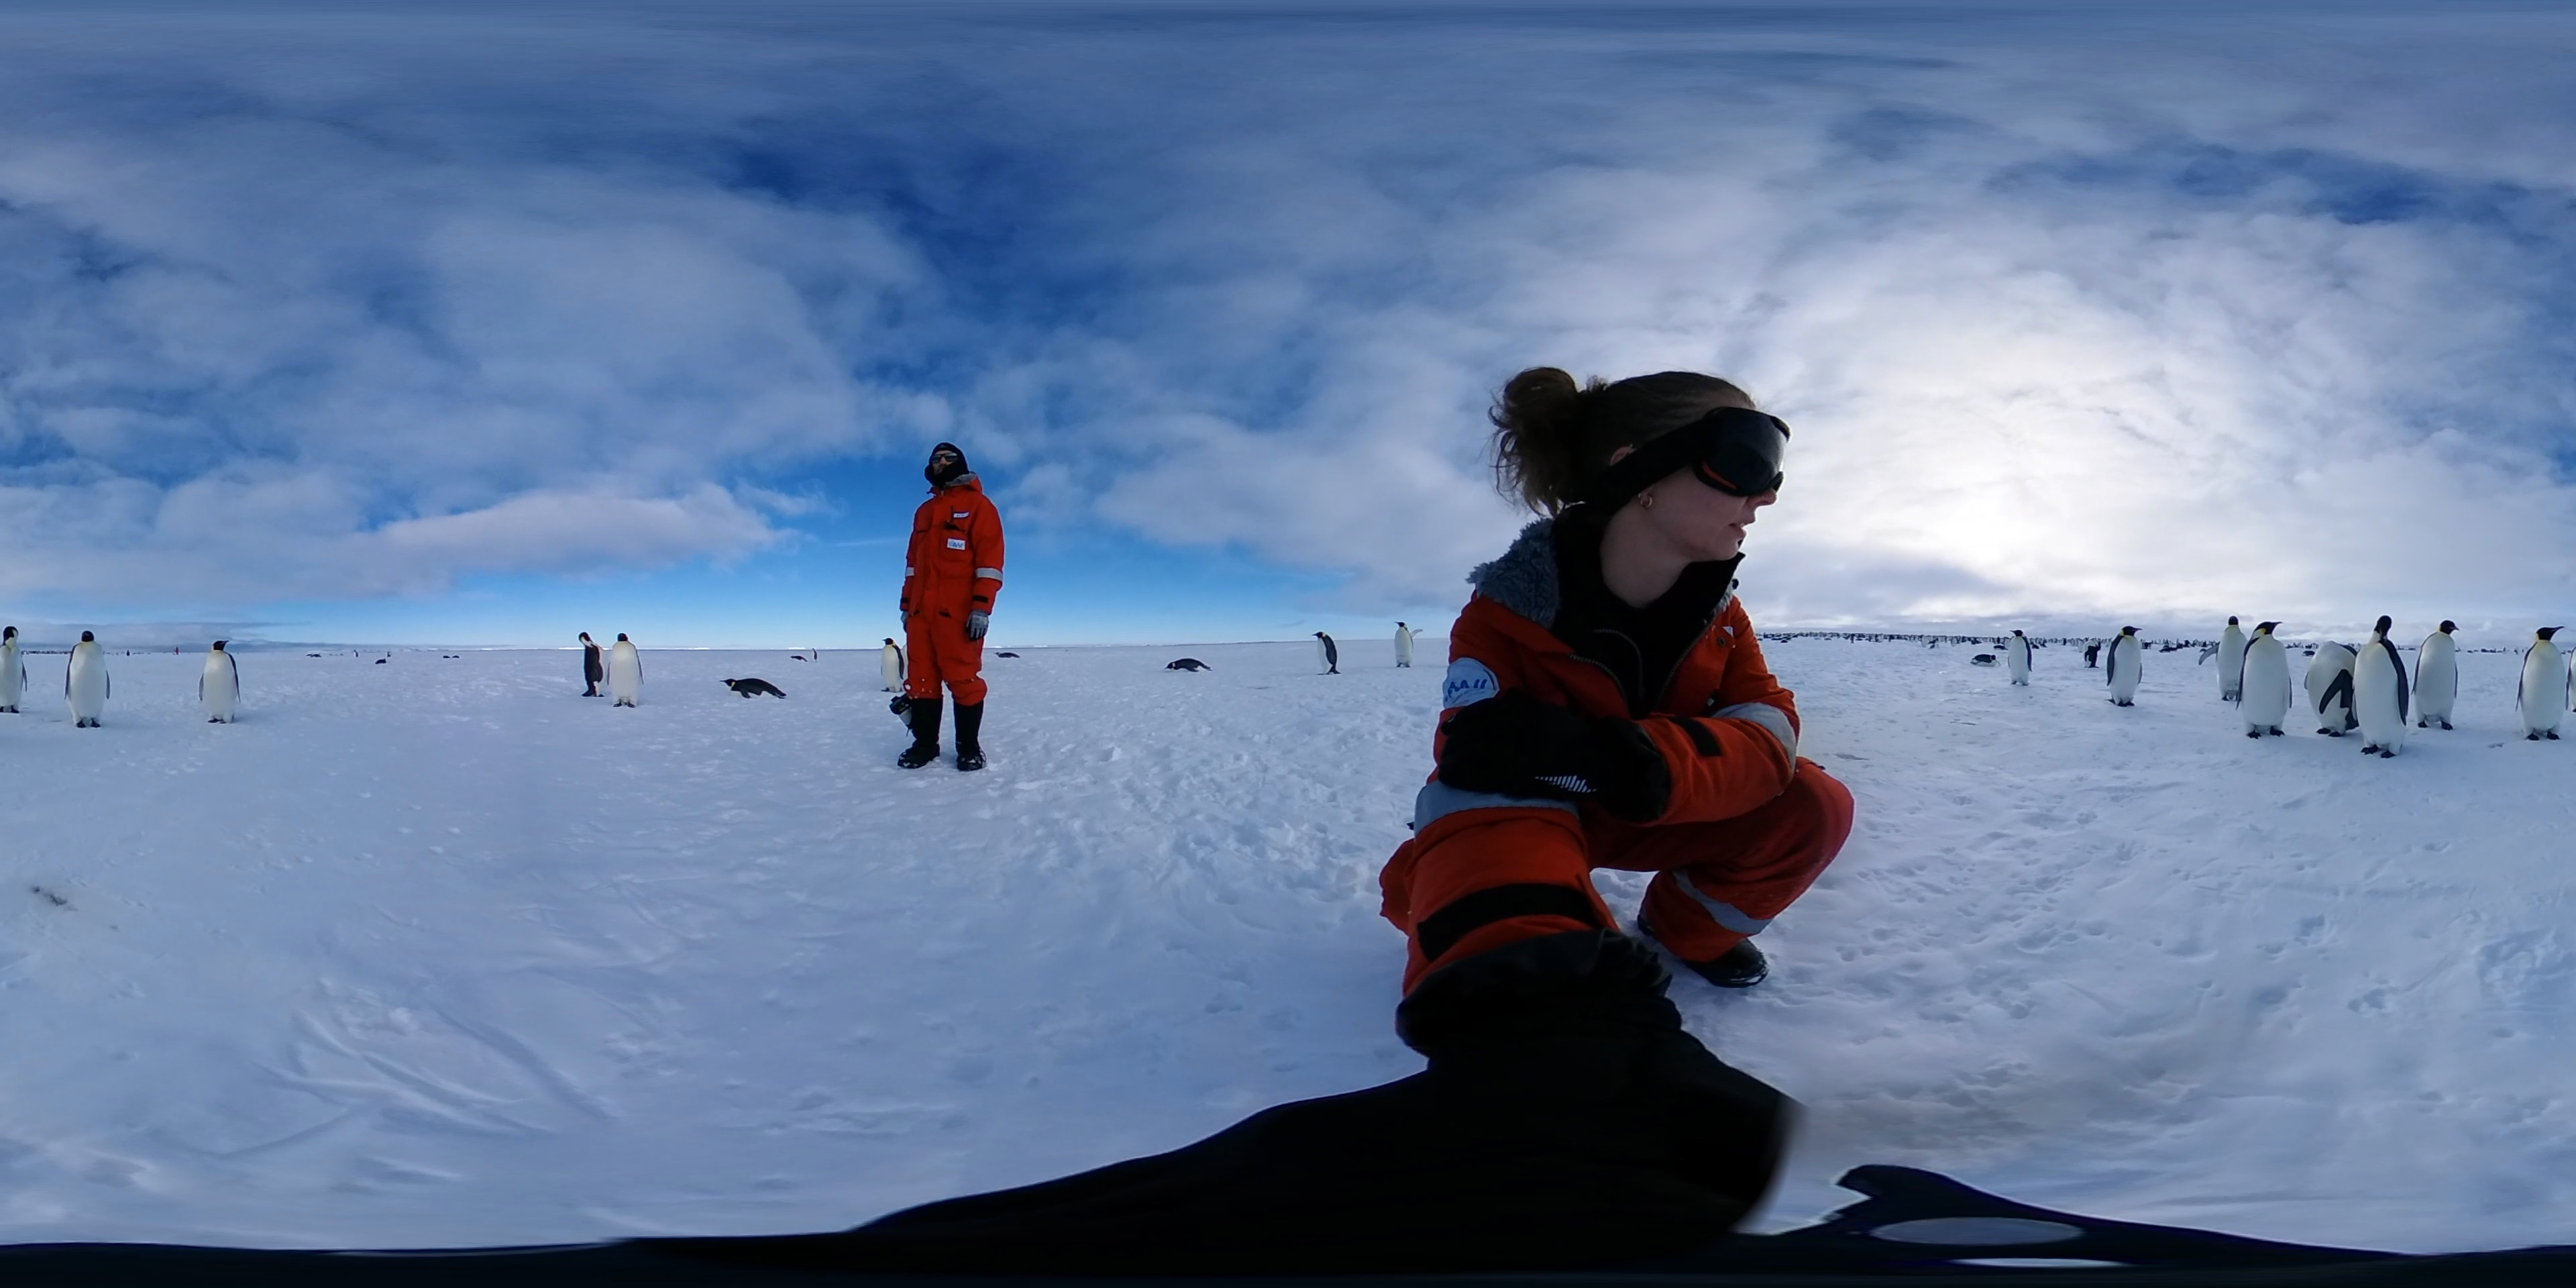adult_standing_penguin: (2356, 613, 2412, 761), (2233, 616, 2293, 743), (2510, 621, 2571, 743), (2300, 636, 2367, 741), (61, 629, 117, 733), (2413, 619, 2463, 733), (194, 636, 248, 724), (2196, 614, 2247, 701), (605, 631, 651, 711), (2106, 624, 2144, 710), (0, 623, 31, 718), (575, 629, 611, 703), (2006, 628, 2040, 690), (1388, 618, 1428, 669), (874, 634, 905, 693), (1311, 629, 1344, 678), (2081, 637, 2100, 670)
adult_toboggan_penguin: (720, 675, 790, 700), (1157, 655, 1217, 677), (1970, 652, 2001, 670), (997, 651, 1022, 660)
researcher: (1375, 343, 1881, 1055), (897, 435, 1007, 775)
